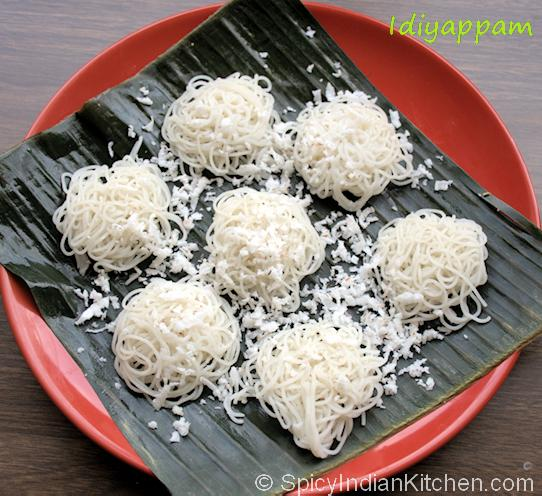String Hoppers: (22, 45, 502, 451)
